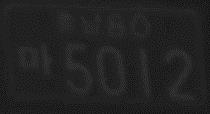0: (96, 45, 127, 95), (129, 13, 151, 40)
1: (133, 49, 158, 96)
2: (162, 48, 193, 100)
5: (62, 42, 92, 95)
8: (105, 13, 127, 40)
마: (14, 43, 54, 73)
충남_O: (55, 12, 102, 37)
